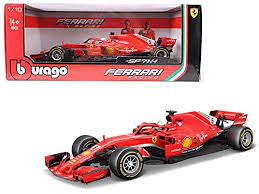FormulaOneCar: (41, 104, 255, 186)
